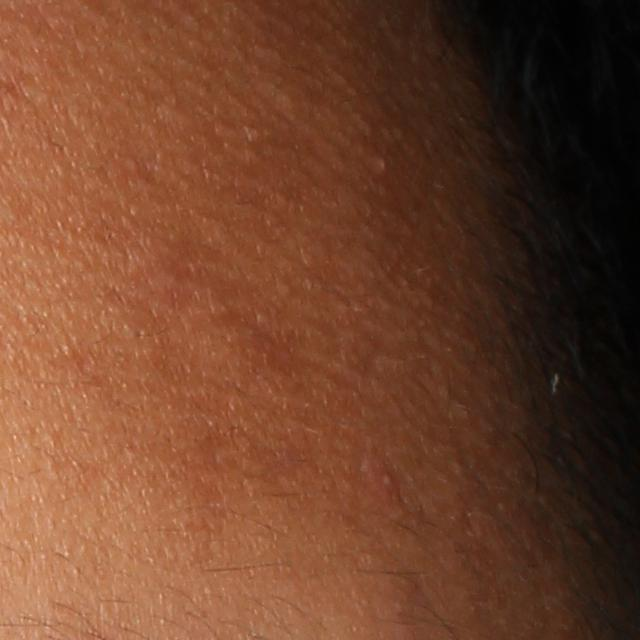comedo: (374, 153, 390, 174)
papule: (375, 469, 399, 487)
